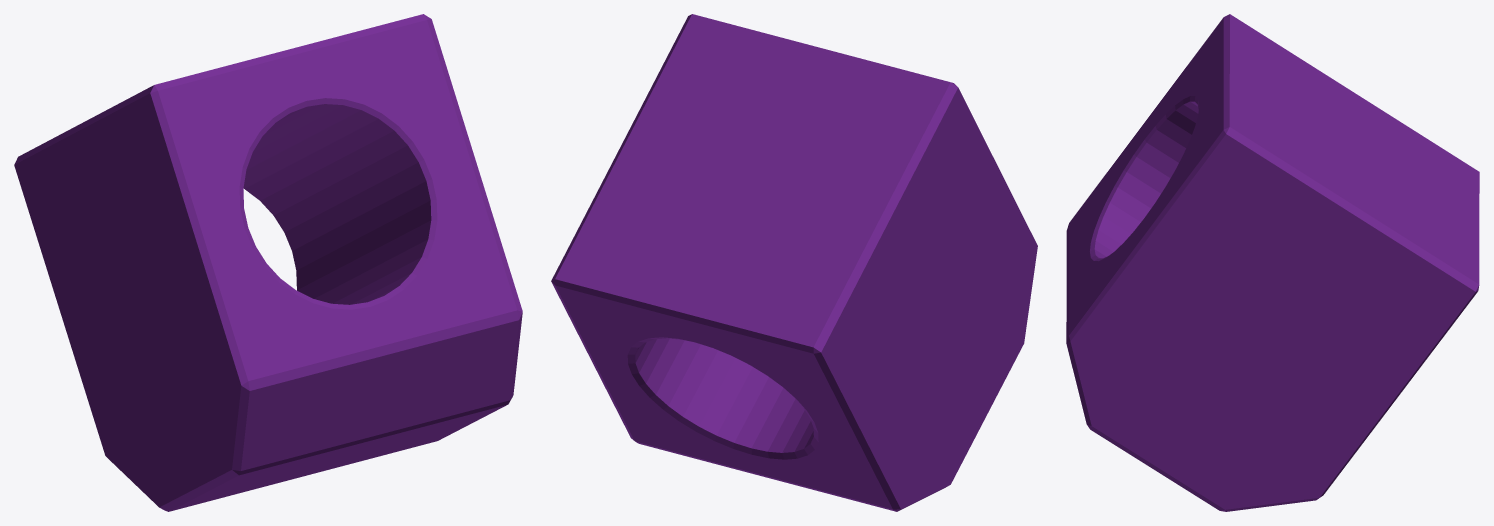
File: Heavenly Fire_Joint.fbx
3 renders of one model, left to right at view 1: azimuth 30°, elevation 25°; view 2: azimuth 150°, elevation 25°; view 3: azimuth 270°, elevation 25°, orthographic. The views are drawn at different scales.
Visible parts, largest first — view 1: Heavenly Fire_Joint_Baked; view 2: Heavenly Fire_Joint_Baked; view 3: Heavenly Fire_Joint_Baked.
Part boxes in pixels (x1,y1,x2,y2): Heavenly Fire_Joint_Baked: (14,14,522,511); Heavenly Fire_Joint_Baked: (551,14,1037,511); Heavenly Fire_Joint_Baked: (1066,14,1479,511).
Bounding box in the file's own units: 94.07 × 134 × 130.
Materials: 1 (1 with a texture image).
